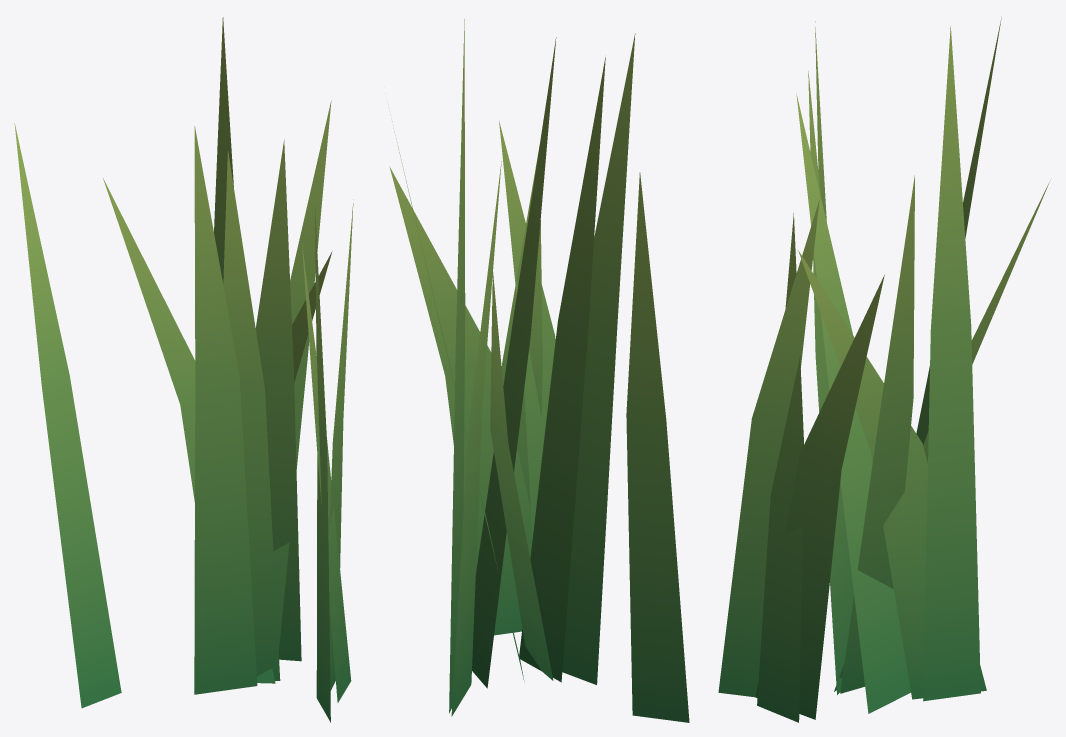
File: grass_tall.glb
3 views of the same model, side by side, from view 1: azimuth 30°, elevation 25°; view 2: azimuth 150°, elevation 25°; view 3: azimuth 270°, elevation 25° (orthographic). The views are drawn at different scales.
Parts seen in each view (by area): view 1: grass_tall; view 2: grass_tall; view 3: grass_tall.
Part boxes in pixels (bbox=[...]): grass_tall: bbox=[14, 17, 353, 722]; grass_tall: bbox=[389, 19, 689, 722]; grass_tall: bbox=[718, 17, 1050, 722].
Bounding box in the file's own units: 0.4412 × 0.9333 × 0.4212.
